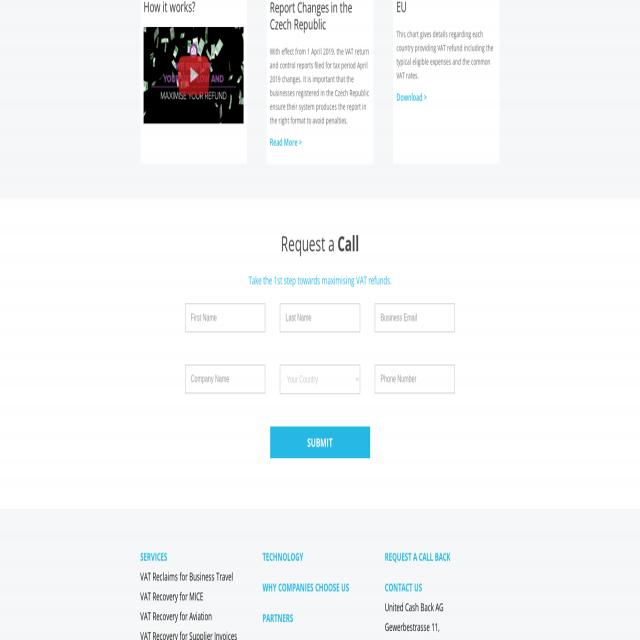button: (144, 27, 244, 123), (270, 426, 370, 458), (177, 56, 209, 95)
field: (185, 364, 265, 394), (280, 364, 360, 394), (375, 364, 455, 394), (185, 303, 265, 332), (280, 303, 360, 332), (375, 303, 455, 332)
